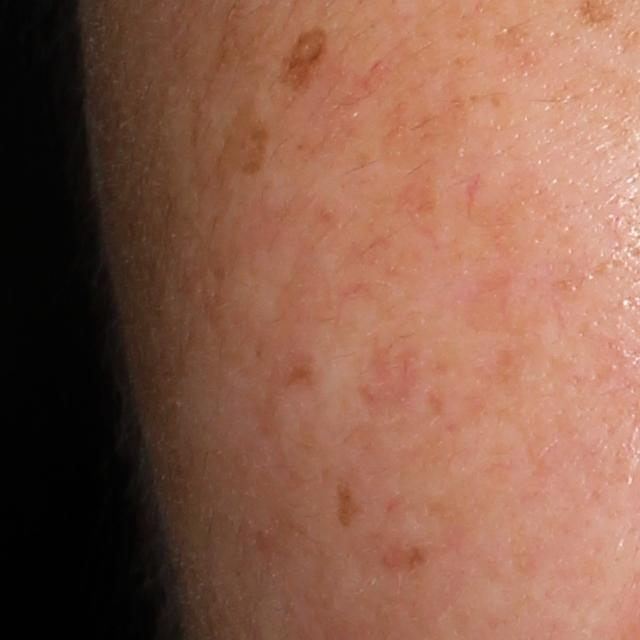melasma: (220, 84, 277, 182), (415, 64, 479, 145), (272, 23, 329, 104), (332, 477, 373, 533)
